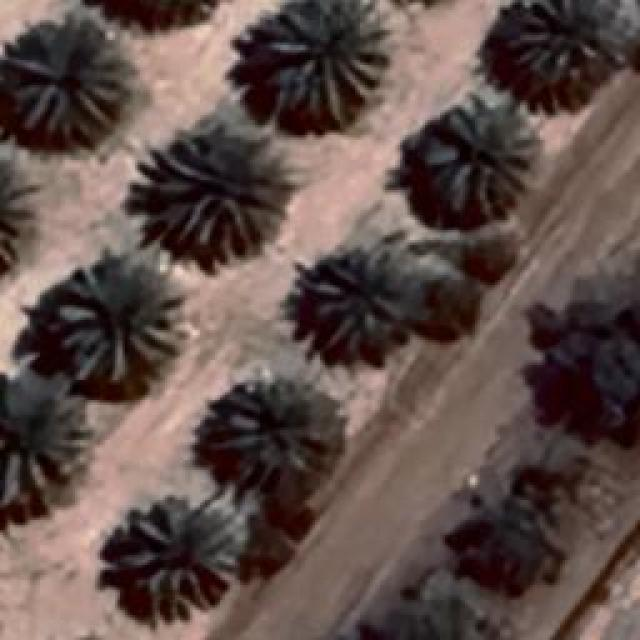PalmTree: (95, 36, 355, 302), (140, 118, 290, 262), (52, 255, 186, 383), (112, 487, 245, 615), (265, 0, 390, 125), (422, 90, 542, 220), (202, 375, 340, 485), (7, 22, 125, 142), (544, 317, 640, 440), (0, 370, 80, 515), (508, 0, 628, 78), (0, 150, 45, 272)
